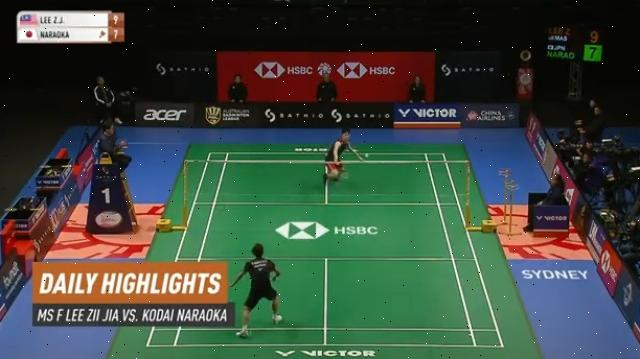Shuttlecock: (359, 150, 371, 162)
